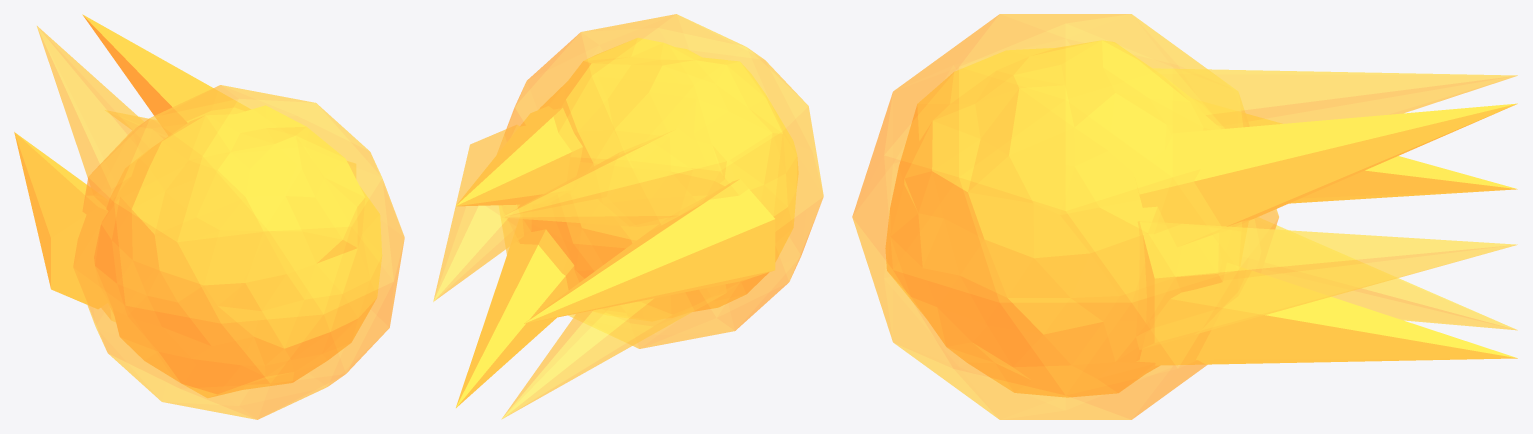
The model's file is fx_fireball_v01.glb.
3 renders of one model, left to right at view 1: azimuth 30°, elevation 25°; view 2: azimuth 150°, elevation 25°; view 3: azimuth 270°, elevation 25°, orthographic. The views are drawn at different scales.
Parts seen in each view (by area): view 1: fireball; view 2: fireball; view 3: fireball.
Boxes of the visible parts, left/top/right/bottom form: fireball: left=14, top=14, right=404, bottom=419; fireball: left=433, top=14, right=823, bottom=419; fireball: left=852, top=14, right=1517, bottom=419.
Size of the model in its own units: 0.6239 by 0.6 by 0.9365.
